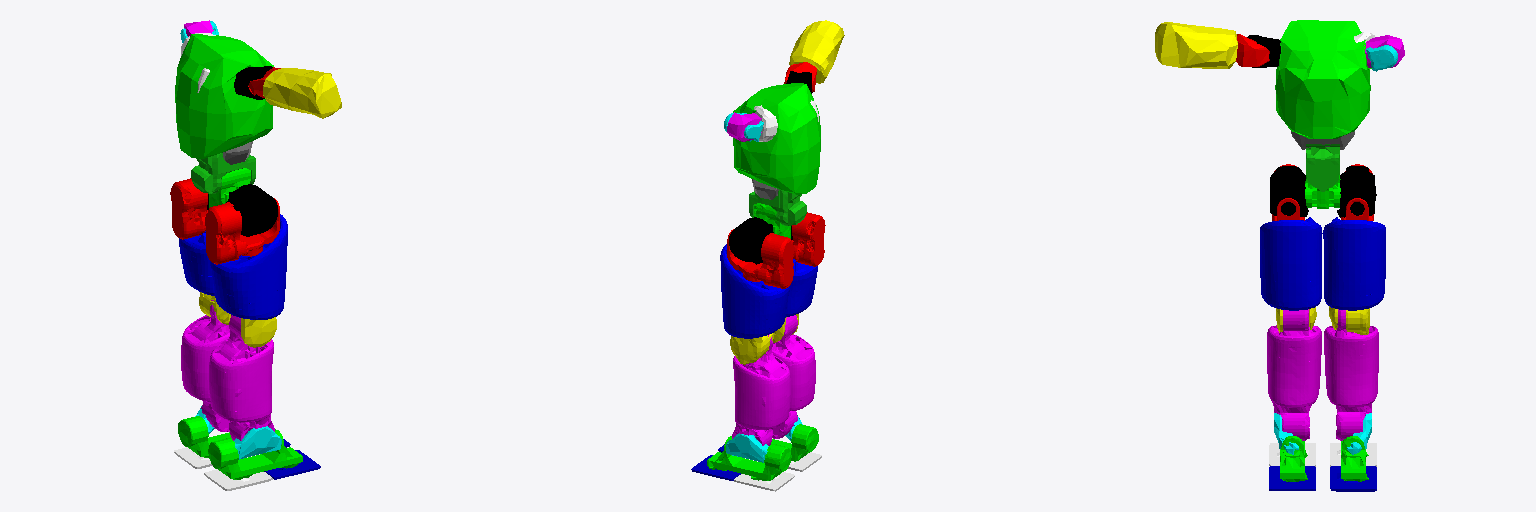
--- Render facts (derived) ---
The picture shows the robot from 3 angles, left to right: view 1: azimuth 30°, elevation 25°; view 2: azimuth 150°, elevation 25°; view 3: azimuth 270°, elevation 25°; orthographic projection.
Robot: iCub — 37 links, 36 joints (22 revolute, 2 continuous, 12 fixed); root link root_link; default pose: joints at zero except 2 at the middle of their limits (r_shoulder_roll = 1.5, l_shoulder_roll = 1.5).
Visible links, largest first — view 1: chest, r_lower_leg, r_hip_3, l_lower_leg, r_upper_arm, r_hip_2, r_ankle_2, l_hip_2, r_hip_1, l_hip_3, torso_1, l_ankle_2 (+6 smaller); view 2: chest, l_lower_leg, l_hip_3, r_lower_leg, l_hip_2, r_upper_arm, l_ankle_2, r_hip_2, l_hip_1, r_hip_3, torso_1, r_ankle_2 (+6 smaller); view 3: chest, r_lower_leg, l_hip_3, r_hip_3, l_lower_leg, r_upper_arm, r_hip_1, l_hip_1, torso_1, r_ankle_2, l_ankle_2, l_foot_front (+5 smaller).
Link boxes in pixels (x1=…): chest: x1=175, y1=34, x2=273, y2=158; r_lower_leg: x1=209, y1=315, x2=274, y2=440; r_hip_3: x1=210, y1=214, x2=287, y2=319; l_lower_leg: x1=181, y1=300, x2=229, y2=431; r_upper_arm: x1=263, y1=68, x2=341, y2=118; r_hip_2: x1=205, y1=198, x2=279, y2=264; r_ankle_2: x1=208, y1=429, x2=302, y2=479; l_hip_2: x1=170, y1=178, x2=207, y2=239; r_hip_1: x1=226, y1=184, x2=277, y2=236; l_hip_3: x1=179, y1=231, x2=214, y2=295; torso_1: x1=191, y1=153, x2=255, y2=193; l_ankle_2: x1=178, y1=416, x2=231, y2=457; chest: x1=733, y1=83, x2=820, y2=194; l_lower_leg: x1=732, y1=334, x2=790, y2=445; l_hip_3: x1=720, y1=244, x2=789, y2=338; r_lower_leg: x1=772, y1=315, x2=815, y2=438; l_hip_2: x1=727, y1=229, x2=794, y2=288; r_upper_arm: x1=789, y1=20, x2=844, y2=83; l_ankle_2: x1=707, y1=436, x2=791, y2=480; r_hip_2: x1=792, y1=212, x2=825, y2=266; l_hip_1: x1=729, y1=217, x2=773, y2=264; r_hip_3: x1=785, y1=259, x2=817, y2=317; torso_1: x1=749, y1=189, x2=806, y2=225; r_ankle_2: x1=771, y1=424, x2=818, y2=461; chest: x1=1275, y1=20, x2=1370, y2=138; r_lower_leg: x1=1267, y1=309, x2=1321, y2=440; l_hip_3: x1=1323, y1=217, x2=1385, y2=310; r_hip_3: x1=1260, y1=217, x2=1322, y2=310; l_lower_leg: x1=1324, y1=309, x2=1378, y2=440; r_upper_arm: x1=1155, y1=22, x2=1237, y2=68; r_hip_1: x1=1270, y1=166, x2=1308, y2=216; l_hip_1: x1=1337, y1=166, x2=1376, y2=217; torso_1: x1=1306, y1=144, x2=1339, y2=191; r_ankle_2: x1=1280, y1=436, x2=1307, y2=481; l_ankle_2: x1=1341, y1=436, x2=1368, y2=481; l_foot_front: x1=1330, y1=466, x2=1376, y2=491.
Bounding box of the posed robot: 0.2783 × 0.5356 × 1.05 m (x, y, z).
Meshes: 34 distinct files referenced, 30 mesh visuals loaded (13 binary STL, 17 ASCII STL); not drawn: 4 (reference not matched to a file when rendering).

The robot description file, URDF, robot "iCub":
<robot name="iCub">
  <link name="root_link">
    <inertial>
      <origin xyz="0.00317113 -0.00014949699999999998 0.025427000000000033" rpy="0 0 -1.5707963267948966"/>
      <mass value="2.67135"/>
      <inertia ixx="0.00428489" ixy="-2.2116e-06" ixz="-1.21946e-05" iyy="0.0045869" iyz="0.00016074" izz="0.00249045"/>
    </inertial>
    <visual>
      <origin xyz="0 0 0.313858" rpy="0 0 -1.5707963267948966"/>
      <geometry>
        <mesh filename="package://iCub/meshes/simmechanics/sim_icub3_root_link_prt.stl" scale="0.001 0.001 0.001"/>
      </geometry>
      <material name="green">
        <color rgba="0 1 0 1"/>
      </material>
    </visual>
    <collision>
      <origin xyz="0 0 0.313858" rpy="0 0 -1.5707963267948966"/>
      <geometry>
        <mesh filename="package://iCub/meshes/simmechanics/sim_icub3_root_link_prt.stl" scale="0.001 0.001 0.001"/>
      </geometry>
    </collision>
  </link>
  <link name="r_hip_1">
    <inertial>
      <origin xyz="-0.005357899999999999 -0.03359610000000001 -0.001346999999999987" rpy="0 0 -1.5707963267948966"/>
      <mass value="2.48546"/>
      <inertia ixx="0.00285629" ixy="3.9100879313042506e-05" ixz="-4.3233113444168614e-05" iyy="0.00230094" iyz="2.8105985012852513e-05" izz="0.00246343"/>
    </inertial>
    <visual>
      <origin xyz="-0.021600000000000008 0.04054999999999993 0.313858" rpy="0 0 -1.5707963267948966"/>
      <geometry>
        <mesh filename="package://iCub/meshes/simmechanics/sim_icub3_r_hip_1_prt.stl" scale="0.001 0.001 0.001"/>
      </geometry>
      <material name="black">
        <color rgba="0 0 0 1"/>
      </material>
    </visual>
    <collision>
      <origin xyz="-0.021600000000000008 0.04054999999999993 0.313858" rpy="0 0 -1.5707963267948966"/>
      <geometry>
        <mesh filename="package://iCub/meshes/simmechanics/sim_icub3_r_hip_1_prt.stl" scale="0.001 0.001 0.001"/>
      </geometry>
    </collision>
  </link>
  <joint name="r_hip_pitch" type="revolute">
    <origin xyz="0.0216 -0.040549999999999996 0" rpy="0 0 0"/>
    <axis xyz="0.0 -1.0 0.0"/>
    <parent link="root_link"/>
    <child link="r_hip_1"/>
    <limit effort="50000" lower="-0.7853981633974483" upper="2.007128639793479" velocity="120.0"/>
    <dynamics damping="0.06" friction="0.0"/>
  </joint>
  <link name="r_hip_2">
    <inertial>
      <origin xyz="-0.0073287000000000005 -0.00018599999999999173 -0.03922199999999998" rpy="0 0 -1.5707963267948966"/>
      <mass value="1.8834"/>
      <inertia ixx="0.00530457" ixy="1.75800935173949e-05" ixz="-1.944508561413543e-05" iyy="0.00316497" iyz="0.0007902041935583603" izz="0.00322503"/>
    </inertial>
    <visual>
      <origin xyz="0.025699999999999983 0.07364999999996628 0.32285800000000775" rpy="0 0 -1.5707963267948966"/>
      <geometry>
        <mesh filename="package://iCub/meshes/simmechanics/sim_icub3_r_hip_2_prt.stl" scale="0.001 0.001 0.001"/>
      </geometry>
      <material name="red">
        <color rgba="1 0 0 1"/>
      </material>
    </visual>
    <collision>
      <origin xyz="0.025699999999999983 0.07364999999996628 0.32285800000000775" rpy="0 0 -1.5707963267948966"/>
      <geometry>
        <mesh filename="package://iCub/meshes/simmechanics/sim_icub3_r_hip_2_prt.stl" scale="0.001 0.001 0.001"/>
      </geometry>
    </collision>
  </link>
  <joint name="r_hip_roll" type="revolute">
    <origin xyz="-0.0473 -0.03310000000000001 -0.009000000000000008" rpy="0 0 0"/>
    <axis xyz="1.0 0.0 0.0"/>
    <parent link="r_hip_1"/>
    <child link="r_hip_2"/>
    <limit effort="50000" lower="-0.17453292519943295" upper="2.007128639793479" velocity="120.0"/>
    <dynamics damping="0.06" friction="0.0"/>
  </joint>
  <link name="r_hip_3">
    <inertial>
      <origin xyz="0.0050640000000000025 0.008557000000000009 -0.040248000000000006" rpy="0 0 -1.5707963267948966"/>
      <mass value="2.29352"/>
      <inertia ixx="0.00410859" ixy="0.0001577216506008059" ixz="0.00045518763382906374" iyy="0.00385326" iyz="-0.00018506299340505087" izz="0.00385557"/>
    </inertial>
    <visual>
      <origin xyz="-0.011000000000000017 0.07364999999996628 0.41255800000000764" rpy="0 0 -1.5707963267948966"/>
      <geometry>
        <mesh filename="package://iCub/meshes/simmechanics/sim_icub3_r_hip_3_prt.stl" scale="0.001 0.001 0.001"/>
      </geometry>
      <material name="blue">
        <color rgba="0 0 1 1"/>
      </material>
    </visual>
    <collision>
      <origin xyz="-0.011000000000000017 0.07364999999996628 0.41255800000000764" rpy="0 0 -1.5707963267948966"/>
      <geometry>
        <mesh filename="package://iCub/meshes/simmechanics/sim_icub3_r_hip_3_prt.stl" scale="0.001 0.001 0.001"/>
      </geometry>
    </collision>
  </link>
  <joint name="r_leg_ft_sensor" type="fixed">
    <origin xyz="0.036699999999999997 0 -0.08969999999999995" rpy="0 0 0"/>
    <parent link="r_hip_2"/>
    <child link="r_hip_3"/>
    <dynamics damping="0.1"/>
  </joint>
  <link name="r_upper_leg">
    <inertial>
      <origin xyz="0.0108785 -0.0010395000000000057 -0.08361700000000005" rpy="0 0 -1.5707963267948966"/>
      <mass value="2.24396"/>
      <inertia ixx="0.00476284" ixy="-3.208266350807358e-05" ixz="0.00011628418121408622" iyy="0.00479384" iyz="0.00044296437443420755" izz="0.00194527"/>
    </inertial>
    <visual>
      <origin xyz="-0.010999999999999998 0.05864999999996624 0.48345800000000777" rpy="0 0 -1.5707963267948966"/>
      <geometry>
        <mesh filename="package://iCub/meshes/simmechanics/sim_icub3_r_upper_leg_prt.stl" scale="0.001 0.001 0.001"/>
      </geometry>
      <material name="yellow">
        <color rgba="1 1 0 1"/>
      </material>
    </visual>
    <collision>
      <origin xyz="-0.010999999999999998 0.05864999999996624 0.48345800000000777" rpy="0 0 -1.5707963267948966"/>
      <geometry>
        <mesh filename="package://iCub/meshes/simmechanics/sim_icub3_r_upper_leg_prt.stl" scale="0.001 0.001 0.001"/>
      </geometry>
    </collision>
  </link>
  <joint name="r_hip_yaw" type="revolute">
    <origin xyz="0 0.015000000000000006 -0.07090000000000007" rpy="0 0 0"/>
    <axis xyz="0.0 0.0 1.0"/>
    <parent link="r_hip_3"/>
    <child link="r_upper_leg"/>
    <limit effort="50000" lower="-1.3962634015954636" upper="1.3962634015954636" velocity="120.0"/>
    <dynamics damping="0.06" friction="0.0"/>
  </joint>
  <link name="r_lower_leg">
    <inertial>
      <origin xyz="-0.01980179 0.023727799999999993 -0.12894100000000008" rpy="0 0 -1.5707963267948966"/>
      <mass value="4.59072"/>
      <inertia ixx="0.0331663" ixy="0.00021016665674538986" ixz="0.00012300646858621808" iyy="0.0309756" iyz="-0.00015989465053380786" izz="0.00525251"/>
    </inertial>
    <visual>
      <origin xyz="-0.026000000000000058 0.08354999999996623 0.5896580000000077" rpy="0 0 -1.5707963267948966"/>
      <geometry>
        <mesh filename="package://iCub/meshes/simmechanics/sim_icub3_r_lower_leg_prt.stl" scale="0.001 0.001 0.001"/>
      </geometry>
      <material name="pink">
        <color rgba="1 0 1 1"/>
      </material>
    </visual>
    <collision>
      <origin xyz="-0.026000000000000058 0.08354999999996623 0.5896580000000077" rpy="0 0 -1.5707963267948966"/>
      <geometry>
        <mesh filename="package://iCub/meshes/simmechanics/sim_icub3_r_lower_leg_prt.stl" scale="0.001 0.001 0.001"/>
      </geometry>
    </collision>
  </link>
  <joint name="r_knee" type="revolute">
    <origin xyz="0.015000000000000003 -0.0249 -0.10619999999999996" rpy="0 0 0"/>
    <axis xyz="0.0 -1.0 0.0"/>
    <parent link="r_upper_leg"/>
    <child link="r_lower_leg"/>
    <limit effort="50000" lower="-1.2217304763960306" upper="0.08726646259971647" velocity="120.0"/>
    <dynamics damping="0.06" friction="0.0"/>
  </joint>
  <link name="r_ankle_1">
    <inertial>
      <origin xyz="-0.0052558000000000014 0.002301599999999987 -0.018286000000000024" rpy="0 0 -1.5707963267948966"/>
      <mass value="1.80595"/>
      <inertia ixx="0.00329109" ixy="-0.00011193325094648436" ixz="-0.00023180543265495062" iyy="0.00097845" iyz="-0.00010678991458219672" izz="0.00298837"/>
    </inertial>
    <visual>
      <origin xyz="-0.02600000000000011 0.08304999999996568 0.8456470000000077" rpy="0 0 -1.5707963267948966"/>
      <geometry>
        <mesh filename="package://iCub/meshes/simmechanics/sim_icub3_r_ankle_1_prt.stl" scale="0.001 0.001 0.001"/>
      </geometry>
      <material name="cyan">
        <color rgba="0 1 1 1"/>
      </material>
    </visual>
    <collision>
      <origin xyz="-0.02600000000000011 0.08304999999996568 0.8456470000000077" rpy="0 0 -1.5707963267948966"/>
      <geometry>
        <mesh filename="package://iCub/meshes/simmechanics/sim_icub3_r_ankle_1_prt.stl" scale="0.001 0.001 0.001"/>
      </geometry>
    </collision>
  </link>
  <joint name="r_ankle_pitch" type="revolute">
    <origin xyz="0 0.0005000000000000004 -0.255989" rpy="0 0 0"/>
    <axis xyz="0.0 1.0 0.0"/>
    <parent link="r_lower_leg"/>
    <child link="r_ankle_1"/>
    <limit effort="50000" lower="-0.7853981633974483" upper="0.7853981633974483" velocity="120.0"/>
    <dynamics damping="0.06" friction="0.0"/>
  </joint>
  <link name="r_ankle_2">
    <inertial>
      <origin xyz="0.0435896 9.779999999998124e-05 -0.02621299999999993" rpy="0 0 -1.5707963267948966"/>
      <mass value="1.06976"/>
      <inertia ixx="0.00510275" ixy="2.566239505873549e-06" ixz="-4.1923537473188265e-06" iyy="0.000995114" iyz="0.000794242494242394" izz="0.00458166"/>
    </inertial>
    <visual>
      <origin xyz="0.026749999999999875 0.0648499999999391 0.8806470000000108" rpy="0 0 -1.5707963267948966"/>
      <geometry>
        <mesh filename="package://iCub/meshes/simmechanics/sim_icub3_r_ankle_2_prt.stl" scale="0.001 0.001 0.001"/>
      </geometry>
      <material name="green">
        <color rgba="0 1 0 1"/>
      </material>
    </visual>
    <collision>
      <origin xyz="0.026749999999999875 0.0648499999999391 0.8806470000000108" rpy="0 0 -1.5707963267948966"/>
      <geometry>
        <mesh filename="package://iCub/meshes/simmechanics/sim_icub3_r_ankle_2_prt.stl" scale="0.001 0.001 0.001"/>
      </geometry>
    </collision>
  </link>
  <joint name="r_ankle_roll" type="revolute">
    <origin xyz="-0.052750000000000005 0.018200000000000008 -0.03500000000000003" rpy="0 0 0"/>
    <axis xyz="1.0 0.0 0.0"/>
    <parent link="r_ankle_1"/>
    <child link="r_ankle_2"/>
    <limit effort="50000" lower="-0.4363323129985824" upper="0.4363323129985824" velocity="120.0"/>
    <dynamics damping="0.06" friction="0.0"/>
  </joint>
  <link name="r_foot_rear">
    <inertial>
      <origin xyz="-0.00021610000000000032 -9.280000000001787e-05 0.00317400000000001" rpy="0 0 -1.5707963267948966"/>
      <mass value="0.728095"/>
      <inertia ixx="0.000769193" ixy="-1.0104094827945897e-06" ixz="-8.724056225297856e-08" iyy="0.000565835" iyz="7.812644807512598e-08" izz="0.00132907"/>
    </inertial>
    <visual>
      <origin xyz="0.010749999999999881 0.0648499999999391 0.9464470000000105" rpy="0 0 -1.5707963267948966"/>
      <geometry>
        <mesh filename="package://iCub/meshes/simmechanics/sim_icub3_r_foot_rear_prt.stl" scale="0.001 0.001 0.001"/>
      </geometry>
      <material name="white">
        <color rgba="1 1 1 1"/>
      </material>
    </visual>
    <collision>
      <origin xyz="0.010749999999999881 0.0648499999999391 0.9464470000000105" rpy="0 0 -1.5707963267948966"/>
      <geometry>
        <mesh filename="package://iCub/meshes/simmechanics/sim_icub3_r_foot_rear_prt.stl" scale="0.001 0.001 0.001"/>
      </geometry>
    </collision>
  </link>
  <joint name="r_foot_rear_ft_sensor" type="fixed">
    <origin xyz="0.016 0 -0.06579999999999997" rpy="0 0 0"/>
    <parent link="r_ankle_2"/>
    <child link="r_foot_rear"/>
    <dynamics damping="0.1"/>
  </joint>
  <link name="r_sole"/>
  <joint name="r_sole_fixed_joint" type="fixed">
    <origin xyz="0.05963000000000001 0 0" rpy="0 0 0"/>
    <parent link="r_foot_rear"/>
    <child link="r_sole"/>
    <dynamics damping="0.1"/>
  </joint>
  <link name="r_foot_front">
    <inertial>
      <origin xyz="0.0005860000000000032 0 0.0029439999999999467" rpy="0 0 -1.5707963267948966"/>
      <mass value="0.723938"/>
      <inertia ixx="0.000770637" ixy="0.0" ixz="0.0" iyy="0.000568064" iyz="-2.3758437778657626e-08" izz="0.001333"/>
    </inertial>
    <visual>
      <origin xyz="-0.10850000000000011 0.06484999999993908 0.9464470000000105" rpy="0 0 -1.5707963267948966"/>
      <geometry>
        <mesh filename="package://iCub/meshes/simmechanics/sim_icub3_r_foot_front_prt.stl" scale="0.001 0.001 0.001"/>
      </geometry>
      <material name="dblue">
        <color rgba="0 0 0.8 1"/>
      </material>
    </visual>
    <collision>
      <origin xyz="-0.10850000000000011 0.06484999999993908 0.9464470000000105" rpy="0 0 -1.5707963267948966"/>
      <geometry>
        <mesh filename="package://iCub/meshes/simmechanics/sim_icub3_r_foot_front_prt.stl" scale="0.001 0.001 0.001"/>
      </geometry>
    </collision>
  </link>
  <joint name="r_foot_front_ft_sensor" type="fixed">
    <origin xyz="0.13525 0 -0.06579999999999997" rpy="0 0 0"/>
    <parent link="r_ankle_2"/>
    <child link="r_foot_front"/>
    <dynamics damping="0.1"/>
  </joint>
  <link name="torso_1">
    <inertial>
      <origin xyz="-0.00752632 0.000684313 0.05308400000000002" rpy="0 0 -1.5707963267948966"/>
      <mass value="1.81255"/>
      <inertia ixx="0.00354354" ixy="5.48743e-06" ixz="8.16841e-06" iyy="0.00272482" iyz="-0.000326014" izz="0.00215923"/>
    </inertial>
    <visual>
      <origin xyz="0 0 0.25335800000000014" rpy="0 0 -1.5707963267948966"/>
      <geometry>
        <mesh filename="package://iCub/meshes/simmechanics/sim_icub3_torso_1_prt.stl" scale="0.001 0.001 0.001"/>
      </geometry>
      <material name="dgreen">
        <color rgba="0.1 0.8 0.1 1"/>
      </material>
    </visual>
    <collision>
      <origin xyz="0 0 0.25335800000000014" rpy="0 0 -1.5707963267948966"/>
      <geometry>
        <mesh filename="package://iCub/meshes/simmechanics/sim_icub3_torso_1_prt.stl" scale="0.001 0.001 0.001"/>
      </geometry>
    </collision>
  </link>
  <joint name="torso_roll" type="revolute">
    <origin xyz="0 0 0.0605" rpy="0 0 0"/>
    <axis xyz="1.0 0.0 0.0"/>
    <parent link="root_link"/>
    <child link="torso_1"/>
    <limit effort="50000" lower="-0.4014257279586958" upper="0.4014257279586958" velocity="120.0"/>
    <dynamics damping="0.06" friction="0.0"/>
  </joint>
  <link name="torso_2">
    <inertial>
      <origin xyz="0.0006802240000000001 0.0015534 0.05118500000000001" rpy="0 0 -1.5707963267948966"/>
      <mass value="1.45349"/>
      <inertia ixx="0.00226311" ixy="-1.7788e-06" ixz="-0.000118559" iyy="0.00286571" iyz="1.47721e-05" izz="0.00163638"/>
    </inertial>
    <visual>
      <origin xyz="0 0 0.18085800000000013" rpy="0 0 -1.5707963267948966"/>
      <geometry>
        <mesh filename="package://iCub/meshes/simmechanics/sim_icub3_torso_2_prt.stl" scale="0.001 0.001 0.001"/>
      </geometry>
      <material name="gray">
        <color rgba="0.5 0.5 0.5 1"/>
      </material>
    </visual>
    <collision>
      <origin xyz="0 0 0.18085800000000013" rpy="0 0 -1.5707963267948966"/>
      <geometry>
        <mesh filename="package://iCub/meshes/simmechanics/sim_icub3_torso_2_prt.stl" scale="0.001 0.001 0.001"/>
      </geometry>
    </collision>
  </link>
  <joint name="torso_pitch" type="revolute">
    <origin xyz="0 0 0.07250000000000001" rpy="0 0 0"/>
    <axis xyz="0.0 -1.0 0.0"/>
    <parent link="torso_1"/>
    <child link="torso_2"/>
    <limit effort="50000" lower="-0.3141592653589793" upper="0.7853981633974483" velocity="120.0"/>
    <dynamics damping="0.06" friction="0.0"/>
  </joint>
  <link name="chest">
    <inertial>
      <origin xyz="-0.0133964 -0.000262139 0.0551337" rpy="0 0 -1.5707963267948966"/>
      <mass value="5.75757"/>
      <inertia ixx="0.0255632" ixy="-5.31274e-05" ixz="9.38021e-05" iyy="0.0261369" iyz="-0.000610637" izz="0.0222276"/>
    </inertial>
    <visual>
      <origin xyz="0 0 0.1163880000000001" rpy="0 0 -1.5707963267948966"/>
      <geometry>
        <mesh filename="package://iCub/meshes/simmechanics/sim_icub3_chest_prt.stl" scale="0.001 0.001 0.001"/>
      </geometry>
      <material name="green">
        <color rgba="0 1 0 1"/>
      </material>
    </visual>
    <collision>
      <origin xyz="0 0 0.1163880000000001" rpy="0 0 -1.5707963267948966"/>
      <geometry>
        <mesh filename="package://iCub/meshes/simmechanics/sim_icub3_chest_prt.stl" scale="0.001 0.001 0.001"/>
      </geometry>
    </collision>
  </link>
  <joint name="torso_yaw" type="revolute">
    <origin xyz="0 0 0.06447000000000001" rpy="0 0 0"/>
    <axis xyz="0.0 0.0 1.0"/>
    <parent link="torso_2"/>
    <child link="chest"/>
    <limit effort="50000" lower="-0.7504915783575618" upper="0.7504915783575618" velocity="120.0"/>
    <dynamics damping="0.06" friction="0.0"/>
  </joint>
  <link name="r_shoulder_1">
    <inertial>
      <origin xyz="0.00026441971857374055 -0.05747129038042943 0.0004210903629773867" rpy="-0.06688725064450136 0.24445256247619251 -1.840815419889917"/>
      <mass value="1.45988"/>
      <inertia ixx="0.00109699" ixy="-0.000616726" ixz="-0.000574688" iyy="0.00309305" iyz="-0.000161381" izz="0.00309487"/>
    </inertial>
    <visual>
      <origin xyz="0.030411233356184415 0.029140462447480257 0.019095774333938085" rpy="-0.06688725064450136 0.24445256247619251 -1.840815419889917"/>
      <geometry>
        <mesh filename="package://iCub/meshes/simmechanics/sim_icub3_r_shoulder_1_prt.stl" scale="0.001 0.001 0.001"/>
      </geometry>
      <material name="black">
        <color rgba="0 0 0 1"/>
      </material>
    </visual>
    <collision>
      <origin xyz="0.030411233356184415 0.029140462447480257 0.019095774333938085" rpy="-0.06688725064450136 0.24445256247619251 -1.840815419889917"/>
      <geometry>
        <mesh filename="package://iCub/meshes/simmechanics/sim_icub3_r_shoulder_1_prt.stl" scale="0.001 0.001 0.001"/>
      </geometry>
    </collision>
  </link>
  <joint name="r_shoulder_pitch" type="revolute">
    <origin xyz="-0.020835100000000002 -0.0397423 0.1052029" rpy="-0.25326164431680925 2.3014774394592079e-07 0.26179970938509745"/>
    <axis xyz="1.499044390098182e-07 0.9999999783534812 -1.2401537036323317e-07"/>
    <parent link="chest"/>
    <child link="r_shoulder_1"/>
    <limit effort="50000" lower="-1.53588974175501" upper="0.22689280275926285" velocity="120.0"/>
    <dynamics damping="0.06" friction="0.0"/>
  </joint>
  <link name="r_shoulder_2">
    <inertial>
      <origin xyz="0.000711844151437005 -0.00028997131506725005 -0.027865575116629175" rpy="-0.07156446033079357 0.06196992338505823 -1.8462350402422587"/>
      <mass value="0.322126"/>
      <inertia ixx="0.000309774" ixy="3.44034e-05" ixz="2.39129e-05" iyy="0.00021568" iyz="-5.45925e-05" izz="0.000222102"/>
    </inertial>
    <visual>
      <origin xyz="0.02389326106684631 0.14153171676199228 -0.007252350207672734" rpy="-0.07156446033079357 0.06196992338505823 -1.8462350402422587"/>
      <geometry>
        <mesh filename="package://iCub/meshes/simmechanics/sim_icub3_r_shoulder_2_prt.stl" scale="0.001 0.001 0.001"/>
      </geometry>
      <material name="red">
        <color rgba="1 0 0 1"/>
      </material>
    </visual>
    <collision>
      <origin xyz="0.02389326106684631 0.14153171676199228 -0.007252350207672734" rpy="-0.07156446033079357 0.06196992338505823 -1.8462350402422587"/>
      <geometry>
        <mesh filename="package://iCub/meshes/simmechanics/sim_icub3_r_shoulder_2_prt.stl" scale="0.001 0.001 0.001"/>
      </geometry>
    </collision>
  </link>
  <joint name="r_shoulder_roll" type="revolute">
    <origin xyz="0.007489008185044645 -0.11150041046657978 0.0004027858966975245" rpy="0.17453306234069352 -0.05374779257913059 -6.132332688804098e-07"/>
    <axis xyz="-0.9999998262417886 4.210501434612913e-08 2.4630481182686846e-08"/>
    <parent link="r_shoulder_1"/>
    <child link="r_shoulder_2"/>
    <limit effort="50000" lower="0.20943951023931956" upper="2.792526803190927" velocity="120.0"/>
    <dynamics damping="0.06" friction="0.0"/>
  </joint>
  <link name="r_shoulder_3">
    <inertial>
      <origin xyz="-8.928496484206933e-05 -3.376971940446949e-05 -0.007594500252887257" rpy="-0.07156446033079357 0.06196992338505823 -1.8462350402422587"/>
      <mass value="0.258699"/>
      <inertia ixx="7.20362e-05" ixy="5.87638e-07" ixz="-2.8754e-06" iyy="7.22746e-05" iyz="-3.42816e-06" izz="0.000119776"/>
    </inertial>
    <visual>
      <origin xyz="0.030743207452236184 0.1415314977120317 0.047047631370218244" rpy="-0.07156446033079357 0.06196992338505823 -1.8462350402422587"/>
      <geometry>
        <mesh filename="package://iCub/meshes/simmechanics/sim_icub3_r_shoulder_3_prt.stl" scale="0.001 0.001 0.001"/>
      </geometry>
      <material name="blue">
        <color rgba="0 0 1 1"/>
      </material>
    </visual>
    <collision>
      <origin xyz="0.030743207452236184 0.1415314977120317 0.047047631370218244" rpy="-0.07156446033079357 0.06196992338505823 -1.8462350402422587"/>
      <geometry>
        <mesh filename="package://iCub/meshes/simmechanics/sim_icub3_r_shoulder_3_prt.stl" scale="0.001 0.001 0.001"/>
      </geometry>
    </collision>
  </link>
  <joint name="r_shoulder_yaw" type="fixed">
    <origin xyz="-0.006849946385389872 2.1904996058697002e-07 -0.05429998157789099" rpy="0 0 0"/>
    <parent link="r_shoulder_2"/>
    <child link="r_shoulder_3"/>
    <limit effort="50000" lower="-0.8726646259971648" upper="1.3962634015954636" velocity="120.0"/>
    <dynamics damping="0.06" friction="0.0"/>
  </joint>
  <link name="r_upper_arm">
    <inertial>
      <origin xyz="-4.827495476422694e-06 -0.001943485876269635 -0.04747357932833829" rpy="-0.07156446033079357 0.06196992338505823 -1.8462350402422587"/>
      <mass value="2.06334"/>
      <inertia ixx="0.00382639" ixy="-5.03894e-06" ixz="0.000205684" iyy="0.00368146" iyz="0.000261155" izz="0.00167002"/>
    </inertial>
    <visual>
      <origin xyz="0.030743125543818663 0.141531075879301 0.0695475727433718" rpy="-0.07156446033079357 0.06196992338505823 -1.8462350402422587"/>
      <geometry>
        <mesh filename="package://iCub/meshes/simmechanics/sim_icub3_r_upperarm_prt.stl" scale="0.001 0.001 0.001"/>
      </geometry>
      <material name="yellow">
        <color rgba="1 1 0 1"/>
      </material>
    </visual>
    <collision>
      <origin xyz="0.030743125543818663 0.141531075879301 0.0695475727433718" rpy="-0.07156446033079357 0.06196992338505823 -1.8462350402422587"/>
      <geometry>
        <mesh filename="package://iCub/meshes/simmechanics/sim_icub3_r_upperarm_prt.stl" scale="0.001 0.001 0.001"/>
      </geometry>
    </collision>
  </link>
  <joint name="r_arm_ft_sensor" type="continuous">
    <origin xyz="0 4.2183273077367467e-07 -0.02249994137315358" rpy="0 0 0"/>
    <axis xyz="-3.787621790776764e-08 2.805197706023475e-08 1.0000002566182309"/>
    <parent link="r_shoulder_3"/>
    <child link="r_upper_arm"/>
    <dynamics damping="0.1"/>
  </joint>
  <link name="l_shoulder_1">
    <inertial>
      <origin xyz="0.00029182766222172335 0.057230906807805036 0.0005026028256971786" rpy="-0.06688747999488329 -0.24445247956182184 -1.3007776604108252"/>
      <mass value="1.45562"/>
      <inertia ixx="0.00109517" ixy="0.000611891" ixz="0.000565594" iyy="0.00306956" iyz="-0.000159546" izz="0.00307951"/>
    </inertial>
    <visual>
      <origin xyz="0.030411223821871745 -0.029140477504781638 0.01909576654023967" rpy="-0.06688747999488329 -0.24445247956182184 -1.3007776604108252"/>
      <geometry>
        <mesh filename="package://iCub/meshes/simmechanics/sim_icub3_l_shoulder_1_prt.stl" scale="0.001 0.001 0.001"/>
      </geometry>
      <material name="pink">
        <color rgba="1 0 1 1"/>
      </material>
    </visual>
    <collision>
      <origin xyz="0.030411223821871745 -0.029140477504781638 0.01909576654023967" rpy="-0.06688747999488329 -0.24445247956182184 -1.3007776604108252"/>
      <geometry>
        <mesh filename="package://iCub/meshes/simmechanics/sim_icub3_l_shoulder_1_prt.stl" scale="0.001 0.001 0.001"/>
      </geometry>
    </collision>
  </link>
  <joint name="l_shoulder_pitch" type="revolute">
    <origin xyz="-0.020835100000000002 0.0397423 0.1052029" rpy="0.2532616237670649 -1.1982921379466467e-07 -0.26179930185680106"/>
    <axis xyz="-3.3231509266596455e-07 -0.9999999783534343 -1.4456511512603564e-07"/>
    <parent link="chest"/>
    <child link="l_shoulder_1"/>
    <limit effort="50000" lower="-1.53588974175501" upper="0.22689280275926285" velocity="120.0"/>
    <dynamics damping="0.06" friction="0.0"/>
  </joint>
  <link name="l_shoulder_2">
    <inertial>
      <origin xyz="0.003293362025486902 0.0002563804707528261 -0.027865685757097337" rpy="-0.0715644949880594 -0.06196998841864678 -1.295357449823658"/>
      <mass value="0.322126"/>
      <inertia ixx="0.000311039" ixy="-3.5032e-05" ixz="-2.4436e-05" iyy="0.000216027" iyz="-5.52877e-05" izz="0.00022365"/>
    </inertial>
    <visual>
      <origin xyz="0.02639309786919335 -0.14153112610649204 -0.007252397644602098" rpy="-0.0715644949880594 -0.06196998841864678 -1.295357449823658"/>
      <geometry>
        <mesh filename="package://iCub/meshes/simmechanics/sim_icub3_l_shoulder_2_prt.stl" scale="0.001 0.001 0.001"/>
      </geometry>
      <material name="cyan">
        <color rgba="0 1 1 1"/>
      </material>
    </visual>
    <collision>
      <origin xyz="0.02639309786919335 -0.14153112610649204 -0.007252397644602098" rpy="-0.0715644949880594 -0.06196998841864678 -1.295357449823658"/>
      <geometry>
        <mesh filename="package://iCub/meshes/simmechanics/sim_icub3_l_shoulder_2_prt.stl" scale="0.001 0.001 0.001"/>
      </geometry>
    </collision>
  </link>
  <joint name="l_shoulder_roll" type="revolute">
    <origin xyz="0.004992849332498911 0.11149983845605199 0.00026865023223796025" rpy="-0.17453296136691587 -0.05374759926346641 0"/>
    <axis xyz="-0.9999998262417685 -2.0348252625938444e-07 4.023022846062156e-08"/>
    <parent link="l_shoulder_1"/>
    <child link="l_shoulder_2"/>
    <limit effort="50000" lower="0.20943951023931956" upper="2.792526803190927" velocity="120.0"/>
    <dynamics damping="0.06" friction="0.0"/>
  </joint>
  <link name="l_shoulder_3">
    <inertial>
      <origin xyz="-4.416264022005789e-06 9.587749727052453e-05 -0.007326213473011087" rpy="-0.0715644949880594 -0.06196998841864678 -1.295357449823658"/>
      <mass value="0.256128"/>
      <inertia ixx="7.10321e-05" ixy="-3.76336e-07" ixz="2.93189e-06" iyy="7.06105e-05" iyz="-3.52325e-06" izz="0.000119948"/>
    </inertial>
    <visual>
      <origin xyz="0.03074323102617168 -0.1415314893638154 0.04704764107945962" rpy="-0.0715644949880594 -0.06196998841864678 -1.295357449823658"/>
      <geometry>
        <mesh filename="package://iCub/meshes/simmechanics/sim_icub3_l_shoulder_3_prt.stl" scale="0.001 0.001 0.001"/>
      </geometry>
      <material name="green">
        <color rgba="0 1 0 1"/>
      </material>
    </visual>
    <collision>
      <origin xyz="0.03074323102617168 -0.1415314893638154 0.04704764107945962" rpy="-0.0715644949880594 -0.06196998841864678 -1.295357449823658"/>
      <geometry>
        <mesh filename="package://iCub/meshes/simmechanics/sim_icub3_l_shoulder_3_prt.stl" scale="0.001 0.001 0.001"/>
      </geometry>
    </collision>
  </link>
  <joint name="l_shoulder_yaw" type="fixed">
    <origin xyz="-0.004350133156978318 3.632573233602887e-07 -0.05430003872406172" rpy="0 0 0"/>
    <parent link="l_shoulder_2"/>
    <child link="l_shoulder_3"/>
    <limit effort="50000" lower="-0.8726646259971648" upper="1.3962634015954636" velocity="120.0"/>
    <dynamics damping="0.06" friction="0.0"/>
  </joint>
  <link name="l_upper_arm">
    <inertial>
      <origin xyz="0.006736834478024374 -0.021799255751033003 -0.04590612014684704" rpy="-0.0715644949880594 -0.06196998841864678 -1.295357449823658"/>
      <mass value="2.07167"/>
      <inertia ixx="0.0038606" ixy="0.000215061" ixz="-5.23479e-05" iyy="0.018139" iyz="0.000254564" izz="0.0161052"/>
    </inertial>
    <visual>
      <origin xyz="0.030743149468679273 -0.14153106591133116 0.06954758245258388" rpy="-0.0715644949880594 -0.06196998841864678 -1.295357449823658"/>
      <geometry>
        <mesh filename="package://iCub/meshes/simmechanics/sim_icub3_l_upperarm_prt.stl" scale="0.001 0.001 0.001"/>
      </geometry>
      <material name="white">
        <color rgba="1 1 1 1"/>
      </material>
    </visual>
    <collision>
      <origin xyz="0.030743149468679273 -0.14153106591133116 0.06954758245258388" rpy="-0.0715644949880594 -0.06196998841864678 -1.295357449823658"/>
      <geometry>
        <mesh filename="package://iCub/meshes/simmechanics/sim_icub3_l_upperarm_prt.stl" scale="0.001 0.001 0.001"/>
      </geometry>
    </collision>
  </link>
  <joint name="l_arm_ft_sensor" type="continuous">
    <origin xyz="0 -4.2345248449371375e-07 -0.022499941373124423" rpy="0 0 0"/>
    <axis xyz="-2.2276474049102235e-08 4.393786247302041e-08 1.0000002566182309"/>
    <parent link="l_shoulder_3"/>
    <child link="l_upper_arm"/>
    <dynamics damping="0.1"/>
  </joint>
  <link name="neck_1">
    <inertial>
      <origin xyz="-0.0021184600000000004 0.00032935500000000003 0.031452400000000005" rpy="0 0 -1.5707963267948966"/>
      <mass value="0.380522"/>
      <inertia ixx="0.000185851" ixy="-1.53015e-05" ixz="9.1042e-06" iyy="0.000293366" iyz="-5.73862e-06" izz="0.000276493"/>
    </inertial>
    <visual>
      <origin xyz="0.003788489999999879 0 -0.0489114999999999" rpy="0 0 -1.5707963267948966"/>
      <geometry>
        <mesh filename="package://iCub/meshes/simmechanics/sim_icub3_neck_1_prt.stl" scale="0.001 0.001 0.001"/>
      </geometry>
      <material name="dblue">
        <color rgba="0 0 0.8 1"/>
      </material>
    </visual>
    <collision>
      <origin xyz="0.003788489999999879 0 -0.0489114999999999" rpy="0 0 -1.5707963267948966"/>
      <geometry>
        <mesh filename="package://iCub/meshes/simmechanics/sim_icub3_neck_1_prt.stl" scale="0.001 0.001 0.001"/>
      </geometry>
    </collision>
  </link>
  <joint name="neck_fixed_joint" type="fixed">
    <origin xyz="-0.00378849 0 0.1652995" rpy="0 0 0"/>
    <parent link="chest"/>
    <child link="neck_1"/>
    <dynamics damping="0.1"/>
  </joint>
  <link name="neck_2">
    <inertial>
      <origin xyz="-0.00639127 6.987970000000001e-05 0.00656749999999999" rpy="0 0 -1.5707963267948966"/>
      <mass value="0.125914"/>
      <inertia ixx="4.06745e-05" ixy="3.70682e-08" ixz="-8.04162e-08" iyy="4.7566e-05" iyz="9.39617e-06" izz="3.88116e-05"/>
    </inertial>
    <visual>
      <origin xyz="-0.004861510000000123 0 -0.09791149999999992" rpy="0 0 -1.5707963267948966"/>
      <geometry>
        <mesh filename="package://iCub/meshes/simmechanics/sim_icub3_neck_2_prt.stl" scale="0.001 0.001 0.001"/>
      </geometry>
      <material name="dgreen">
        <color rgba="0.1 0.8 0.1 1"/>
      </material>
    </visual>
    <collision>
      <origin xyz="-0.004861510000000123 0 -0.09791149999999992" rpy="0 0 -1.5707963267948966"/>
      <geometry>
        <mesh filename="package://iCub/meshes/simmechanics/sim_icub3_neck_2_prt.stl" scale="0.001 0.001 0.001"/>
      </geometry>
    </collision>
  </link>
  <joint name="neck_pitch" type="revolute">
    <origin xyz="0.00865 0 0.049000000000000016" rpy="0 0 0"/>
    <axis xyz="0.0 -1.0 0.0"/>
    <parent link="neck_1"/>
    <child link="neck_2"/>
    <limit effort="50000" lower="-0.5235987755982988" upper="0.3839724354387525" velocity="120.0"/>
    <dynamics damping="0.06" friction="0.0"/>
  </joint>
  <link name="neck_3">
    <inertial>
      <origin xyz="0.0015052899999999994 -9.83989e-05 0.031176999999999983" rpy="0 0 -1.5707963267948966"/>
      <mass value="0.15881"/>
      <inertia ixx="9.33153e-05" ixy="-4.69121e-07" ixz="4.64815e-07" iyy="8.04014e-05" iyz="9.18022e-06" izz="3.37704e-05"/>
    </inertial>
    <visual>
      <origin xyz="-0.004861510000000076 0 -0.10741199999999994" rpy="0 0 -1.5707963267948966"/>
      <geometry>
        <mesh filename="package://iCub/meshes/simmechanics/sim_icub3_neck_3_prt.stl" scale="0.001 0.001 0.001"/>
      </geometry>
      <material name="gray">
        <color rgba="0.5 0.5 0.5 1"/>
      </material>
    </visual>
    <collision>
      <origin xyz="-0.004861510000000076 0 -0.10741199999999994" rpy="0 0 -1.5707963267948966"/>
      <geometry>
        <mesh filename="package://iCub/meshes/simmechanics/sim_icub3_neck_3_prt.stl" scale="0.001 0.001 0.001"/>
      </geometry>
    </collision>
  </link>
  <joint name="neck_roll" type="revolute">
    <origin xyz="0 0 0.009500499999999995" rpy="0 0 0"/>
    <axis xyz="1.0 0.0 0.0"/>
    <parent link="neck_2"/>
    <child link="neck_3"/>
    <limit effort="50000" lower="-0.3490658503988659" upper="0.3490658503988659" velocity="120.0"/>
    <dynamics damping="0.06" friction="0.0"/>
  </joint>
  <link name="head">
    <inertial>
      <origin xyz="-0.002904259999999059 6.045070004523155e-05 0.10380000000000003" rpy="0 0 -1.5707963267948966"/>
      <mass value="1.955"/>
      <inertia ixx="0.0075908054" ixy="1.2937334106820473e-07" ixz="-2.7029224936168744e-07" iyy="0.0056755473" iyz="-5.263770650744555e-06" izz="0.007126685"/>
    </inertial>
    <visual>
      <origin xyz="-0.004861510000000084 0 -0.17656200000000014" rpy="0 0 -1.5707963267948966"/>
      <geometry>
        <mesh filename="package://iCub/meshes/simmechanics/sim_icub3_head_prt.stl" scale="0.001 0.001 0.001"/>
      </geometry>
      <material name="green">
        <color rgba="0 1 0 1"/>
      </material>
    </visual>
    <collision>
      <origin xyz="-0.004861510000000084 0 -0.17656200000000014" rpy="0 0 -1.5707963267948966"/>
      <geometry>
        <mesh filename="package://iCub/meshes/simmechanics/sim_icub3_head_prt.stl" scale="0.001 0.001 0.001"/>
      </geometry>
    </collision>
  </link>
  <joint name="neck_yaw" type="revolute">
    <origin xyz="0 0 0.06915000000000002" rpy="0 0 0"/>
    <axis xyz="0.0 0.0 -1.0"/>
    <parent link="neck_3"/>
    <child link="head"/>
    <limit effort="50000" lower="-0.7853981633974483" upper="0.7853981633974483" velocity="120.0"/>
    <dynamics damping="0.06" friction="0.0"/>
  </joint>
  <link name="l_hip_1">
    <inertial>
      <origin xyz="-0.001970200000000002 0.0311194 -0.00043199999999998795" rpy="0 0 -1.5707963267948966"/>
      <mass value="2.48546"/>
      <inertia ixx="0.00285629" ixy="-2.13955e-05" ixz="3.35338e-06" iyy="0.00230094" iyz="1.79278e-05" izz="0.00246343"/>
    </inertial>
    <visual>
      <origin xyz="-0.02160000000000005 -0.040449999999999674 0.3138580000000002" rpy="0 0 -1.5707963267948966"/>
      <geometry>
        <mesh filename="package://iCub/meshes/simmechanics/sim_icub3_l_hip_1_prt.stl" scale="0.001 0.001 0.001"/>
      </geometry>
      <material name="black">
        <color rgba="0 0 0 1"/>
      </material>
    </visual>
    <collision>
      <origin xyz="-0.02160000000000005 -0.040449999999999674 0.3138580000000002" rpy="0 0 -1.5707963267948966"/>
      <geometry>
        <mesh filename="package://iCub/meshes/simmechanics/sim_icub3_l_hip_1_prt.stl" scale="0.001 0.001 0.001"/>
      </geometry>
    </collision>
  </link>
  <joint name="l_hip_pitch" type="revolute">
    <origin xyz="0.0216 0.04045000000000001 0" rpy="0 0 0"/>
    <axis xyz="0.0 -1.0 0.0"/>
    <parent link="root_link"/>
    <child link="l_hip_1"/>
    <limit effort="50000" lower="-0.7853981633974483" upper="2.007128639793479" velocity="120.0"/>
    <dynamics damping="0.06" friction="0.0"/>
  </joint>
  <link name="l_hip_2">
    <inertial>
      <origin xyz="-0.005948600000000005 8.049999999999724e-05 -0.03665299999999999" rpy="0 0 -1.5707963267948966"/>
      <mass value="1.8834"/>
      <inertia ixx="0.00530457" ixy="-3.8077e-06" ixz="2.9244e-06" iyy="0.00316497" iyz="0.0011122" izz="0.00322503"/>
    </inertial>
    <visual>
      <origin xyz="0.025649999999999923 -0.07354999999999975 0.32285800000000037" rpy="0 0 -1.5707963267948966"/>
      <geometry>
        <mesh filename="package://iCub/meshes/simmechanics/sim_icub3_l_hip_2_prt.stl" scale="0.001 0.001 0.001"/>
      </geometry>
      <material name="red">
        <color rgba="1 0 0 1"/>
      </material>
    </visual>
    <collision>
      <origin xyz="0.025649999999999923 -0.07354999999999975 0.32285800000000037" rpy="0 0 -1.5707963267948966"/>
      <geometry>
        <mesh filename="package://iCub/meshes/simmechanics/sim_icub3_l_hip_2_prt.stl" scale="0.001 0.001 0.001"/>
      </geometry>
    </collision>
  </link>
  <joint name="l_hip_roll" type="revolute">
    <origin xyz="-0.04725 0.0331 -0.009000000000000008" rpy="0 0 0"/>
    <axis xyz="1.0 0.0 0.0"/>
    <parent link="l_hip_1"/>
    <child link="l_hip_2"/>
    <limit effort="50000" lower="-0.17453292519943295" upper="2.007128639793479" velocity="120.0"/>
    <dynamics damping="0.06" friction="0.0"/>
  </joint>
  <link name="l_hip_3">
    <inertial>
      <origin xyz="0.002293400000000001 -0.012390400000000003 -0.038493" rpy="0 0 -1.5707963267948966"/>
      <mass value="2.29352"/>
      <inertia ixx="0.00410859" ixy="5.18011e-06" ixz="-0.000137838" iyy="0.00385326" iyz="6.77925e-06" izz="0.00385557"/>
    </inertial>
    <visual>
      <origin xyz="-0.011050000000000075 -0.07354999999999974 0.4125580000000003" rpy="0 0 -1.5707963267948966"/>
      <geometry>
        <mesh filename="package://iCub/meshes/simmechanics/sim_icub3_l_hip_3_prt.stl" scale="0.001 0.001 0.001"/>
      </geometry>
      <material name="blue">
        <color rgba="0 0 1 1"/>
      </material>
    </visual>
    <collision>
      <origin xyz="-0.011050000000000075 -0.07354999999999974 0.4125580000000003" rpy="0 0 -1.5707963267948966"/>
      <geometry>
        <mesh filename="package://iCub/meshes/simmechanics/sim_icub3_l_hip_3_prt.stl" scale="0.001 0.001 0.001"/>
      </geometry>
    </collision>
  </link>
  <joint name="l_leg_ft_sensor" type="fixed">
    <origin xyz="0.036699999999999997 0 -0.08969999999999995" rpy="0 0 0"/>
    <parent link="l_hip_2"/>
    <child link="l_hip_3"/>
    <dynamics damping="0.1"/>
  </joint>
  <link name="l_upper_leg">
    <inertial>
      <origin xyz="0.0111663 0.006184700000000008 -0.08457400000000004" rpy="0 0 -1.5707963267948966"/>
      <mass value="2.24396"/>
      <inertia ixx="0.00476284" ixy="6.71293e-05" ixz="-0.00033784" iyy="0.00479384" iyz="0.000493564" izz="0.00194527"/>
    </inertial>
    <visual>
      <origin xyz="-0.011050000000000084 -0.05854999999999981 0.48345800000000044" rpy="0 0 -1.5707963267948966"/>
      <geometry>
        <mesh filename="package://iCub/meshes/simmechanics/sim_icub3_l_upper_leg_prt.stl" scale="0.001 0.001 0.001"/>
      </geometry>
      <material name="yellow">
        <color rgba="1 1 0 1"/>
      </material>
    </visual>
    <collision>
      <origin xyz="-0.011050000000000084 -0.05854999999999981 0.48345800000000044" rpy="0 0 -1.5707963267948966"/>
      <geometry>
        <mesh filename="package://iCub/meshes/simmechanics/sim_icub3_l_upper_leg_prt.stl" scale="0.001 0.001 0.001"/>
      </geometry>
    </collision>
  </link>
  <joint name="l_hip_yaw" type="revolute">
    <origin xyz="0 -0.015000000000000006 -0.07090000000000007" rpy="0 0 0"/>
    <axis xyz="0.0 0.0 1.0"/>
    <parent link="l_hip_3"/>
    <child link="l_upper_leg"/>
    <limit effort="50000" lower="-1.3962634015954636" upper="1.3962634015954636" velocity="120.0"/>
    <dynamics damping="0.06" friction="0.0"/>
  </joint>
  <link name="l_lower_leg">
    <inertial>
      <origin xyz="-0.01815996 -0.023756500000000007 -0.16374900000000003" rpy="0 0 -1.5707963267948966"/>
      <mass value="4.59072"/>
      <inertia ixx="0.0331663" ixy="-6.6797e-05" ixz="-0.0011637" iyy="0.0309756" iyz="0.00291057" izz="0.00525251"/>
    </inertial>
    <visual>
      <origin xyz="-0.026050000000000045 -0.08344999999999989 0.5896580000000005" rpy="0 0 -1.5707963267948966"/>
      <geometry>
        <mesh filename="package://iCub/meshes/simmechanics/sim_icub3_l_lower_leg_prt.stl" scale="0.001 0.001 0.001"/>
      </geometry>
      <material name="pink">
        <color rgba="1 0 1 1"/>
      </material>
    </visual>
    <collision>
      <origin xyz="-0.026050000000000045 -0.08344999999999989 0.5896580000000005" rpy="0 0 -1.5707963267948966"/>
      <geometry>
        <mesh filename="package://iCub/meshes/simmechanics/sim_icub3_l_lower_leg_prt.stl" scale="0.001 0.001 0.001"/>
      </geometry>
    </collision>
  </link>
  <joint name="l_knee" type="revolute">
    <origin xyz="0.015 0.024900000000000012 -0.10619999999999996" rpy="0 0 0"/>
    <axis xyz="0.0 -1.0 0.0"/>
    <parent link="l_upper_leg"/>
    <child link="l_lower_leg"/>
    <limit effort="50000" lower="-1.2217304763960306" upper="0.08726646259971647" velocity="120.0"/>
    <dynamics damping="0.06" friction="0.0"/>
  </joint>
  <link name="l_ankle_1">
    <inertial>
      <origin xyz="-0.0049152000000000015 -0.0022939000000000154 -0.018371000000000026" rpy="0 0 -1.5707963267948966"/>
      <mass value="1.80595"/>
      <inertia ixx="0.00329109" ixy="0.000115135" ixz="0.000232789" iyy="0.00097845" iyz="-0.000112215" izz="0.00298837"/>
    </inertial>
    <visual>
      <origin xyz="-0.026049999999999997 -0.08294999999999998 0.8456470000000004" rpy="0 0 -1.5707963267948966"/>
      <geometry>
        <mesh filename="package://iCub/meshes/simmechanics/sim_icub3_l_ankle_1_prt.stl" scale="0.001 0.001 0.001"/>
      </geometry>
      <material name="cyan">
        <color rgba="0 1 1 1"/>
      </material>
    </visual>
    <collision>
      <origin xyz="-0.026049999999999997 -0.08294999999999998 0.8456470000000004" rpy="0 0 -1.5707963267948966"/>
      <geometry>
        <mesh filename="package://iCub/meshes/simmechanics/sim_icub3_l_ankle_1_prt.stl" scale="0.001 0.001 0.001"/>
      </geometry>
    </collision>
  </link>
  <joint name="l_ankle_pitch" type="revolute">
    <origin xyz="0 -0.0005000000000000004 -0.255989" rpy="0 0 0"/>
    <axis xyz="0.0 -1.0 0.0"/>
    <parent link="l_lower_leg"/>
    <child link="l_ankle_1"/>
    <limit effort="50000" lower="-0.7853981633974483" upper="0.7853981633974483" velocity="120.0"/>
    <dynamics damping="0.06" friction="0.0"/>
  </joint>
  <link name="l_ankle_2">
    <inertial>
      <origin xyz="0.0395516 -8.099999999999774e-05 -0.025341999999999976" rpy="0 0 -1.5707963267948966"/>
      <mass value="1.06976"/>
      <inertia ixx="0.00510275" ixy="4.67014e-06" ixz="-6.74116e-07" iyy="0.000995114" iyz="0.000903931" izz="0.00458166"/>
    </inertial>
    <visual>
      <origin xyz="0.026700000000000015 -0.06475000000001183 0.8806469999999995" rpy="0 0 -1.5707963267948966"/>
      <geometry>
        <mesh filename="package://iCub/meshes/simmechanics/sim_icub3_l_ankle_2_prt.stl" scale="0.001 0.001 0.001"/>
      </geometry>
      <material name="green">
        <color rgba="0 1 0 1"/>
      </material>
    </visual>
    <collision>
      <origin xyz="0.026700000000000015 -0.06475000000001183 0.8806469999999995" rpy="0 0 -1.5707963267948966"/>
      <geometry>
        <mesh filename="package://iCub/meshes/simmechanics/sim_icub3_l_ankle_2_prt.stl" scale="0.001 0.001 0.001"/>
      </geometry>
    </collision>
  </link>
  <joint name="l_ankle_roll" type="revolute">
    <origin xyz="-0.052750000000000005 -0.018200000000000008 -0.03500000000000003" rpy="0 0 0"/>
    <axis xyz="1.0 0.0 0.0"/>
    <parent link="l_ankle_1"/>
    <child link="l_ankle_2"/>
    <limit effort="50000" lower="-0.4363323129985824" upper="0.4363323129985824" velocity="120.0"/>
    <dynamics damping="0.06" friction="0.0"/>
  </joint>
  <link name="l_foot_rear">
    <inertial>
      <origin xyz="0.00020089999999999865 -3.260000000000762e-05 0.003339000000000092" rpy="0 0 -1.5707963267948966"/>
      <mass value="0.728095"/>
      <inertia ixx="0.000769193" ixy="-1.67298e-06" ixz="-7.88069e-07" iyy="0.000565835" iyz="-5.1234e-07" izz="0.00132907"/>
    </inertial>
    <visual>
      <origin xyz="0.010700000000000012 -0.06475000000001183 0.9464469999999995" rpy="0 0 -1.5707963267948966"/>
      <geometry>
        <mesh filename="package://iCub/meshes/simmechanics/sim_icub3_l_foot_rear_prt.stl" scale="0.001 0.001 0.001"/>
      </geometry>
      <material name="white">
        <color rgba="1 1 1 1"/>
      </material>
    </visual>
    <collision>
      <origin xyz="0.010700000000000012 -0.06475000000001183 0.9464469999999995" rpy="0 0 -1.5707963267948966"/>
      <geometry>
        <mesh filename="package://iCub/meshes/simmechanics/sim_icub3_l_foot_rear_prt.stl" scale="0.001 0.001 0.001"/>
      </geometry>
    </collision>
  </link>
  <joint name="l_foot_rear_ft_sensor" type="fixed">
    <origin xyz="0.016 0 -0.06579999999999997" rpy="0 0 0"/>
    <parent link="l_ankle_2"/>
    <child link="l_foot_rear"/>
    <dynamics damping="0.1"/>
  </joint>
  <link name="l_sole"/>
  <joint name="l_sole_fixed_joint" type="fixed">
    <origin xyz="0.05963 0 0" rpy="0 0 0"/>
    <parent link="l_foot_rear"/>
    <child link="l_sole"/>
    <dynamics damping="0.1"/>
  </joint>
  <link name="l_foot_front">
    <inertial>
      <origin xyz="-0.00024399999999999422 9.139999999999149e-05 0.003298999999999941" rpy="0 0 -1.5707963267948966"/>
      <mass value="0.723938"/>
      <inertia ixx="0.000770637" ixy="7.67083e-07" ixz="-4.91844e-07" iyy="0.000568064" iyz="-5.214e-07" izz="0.001333"/>
    </inertial>
    <visual>
      <origin xyz="-0.10854999999999998 -0.06475000000001183 0.9464469999999995" rpy="0 0 -1.5707963267948966"/>
      <geometry>
        <mesh filename="package://iCub/meshes/simmechanics/sim_icub3_l_foot_front_prt.stl" scale="0.001 0.001 0.001"/>
      </geometry>
      <material name="dblue">
        <color rgba="0 0 0.8 1"/>
      </material>
    </visual>
    <collision>
      <origin xyz="-0.10854999999999998 -0.06475000000001183 0.9464469999999995" rpy="0 0 -1.5707963267948966"/>
      <geometry>
        <mesh filename="package://iCub/meshes/simmechanics/sim_icub3_l_foot_front_prt.stl" scale="0.001 0.001 0.001"/>
      </geometry>
    </collision>
  </link>
  <joint name="l_foot_front_ft_sensor" type="fixed">
    <origin xyz="0.13524999999999998 0 -0.06579999999999997" rpy="0 0 0"/>
    <parent link="l_ankle_2"/>
    <child link="l_foot_front"/>
    <dynamics damping="0.1"/>
  </joint>
  <link name="base_link"/>
  <joint name="base_link_fixed_joint" type="fixed">
  <origin xyz="0 0 0" rpy="0 -0 0"/>
  <axis xyz="0 0 0"/>
  <parent link="root_link"/>
  <child link="base_link"/>
</joint>
  <gazebo reference="r_arm_ft_sensor">
<preserveFixedJoint>true</preserveFixedJoint>
<!-- For compatibility with SDFormat < 4.4 -->
<disableFixedJointLumping>true</disableFixedJointLumping>
</gazebo>
  <gazebo reference="l_arm_ft_sensor">
<preserveFixedJoint>true</preserveFixedJoint>
<!-- For compatibility with SDFormat < 4.4 -->
<disableFixedJointLumping>true</disableFixedJointLumping>
</gazebo>
  <gazebo>
<plugin name="controlboard_torso" filename="libgazebo_yarp_controlboard.so">
  <yarpConfigurationFile>model://iCub/conf/gazebo_icub_torso.ini</yarpConfigurationFile>
</plugin>
</gazebo>
  <gazebo reference="torso_pitch">
    <implicitSpringDamper>1</implicitSpringDamper>
</gazebo>
  <gazebo reference="torso_roll">
    <implicitSpringDamper>1</implicitSpringDamper>
</gazebo>
  <gazebo reference="torso_yaw">
    <implicitSpringDamper>1</implicitSpringDamper>
</gazebo>
  <gazebo reference="r_shoulder_pitch">
    <implicitSpringDamper>1</implicitSpringDamper>
</gazebo>
  <gazebo reference="r_shoulder_roll">
    <implicitSpringDamper>1</implicitSpringDamper>
</gazebo>
  <gazebo reference="r_shoulder_yaw">
    <implicitSpringDamper>1</implicitSpringDamper>
</gazebo>
  <gazebo reference="l_shoulder_pitch">
    <implicitSpringDamper>1</implicitSpringDamper>
</gazebo>
  <gazebo reference="l_shoulder_roll">
    <implicitSpringDamper>1</implicitSpringDamper>
</gazebo>
  <gazebo reference="l_shoulder_yaw">
    <implicitSpringDamper>1</implicitSpringDamper>
</gazebo>
  <gazebo reference="l_leg_ft_sensor">
<preserveFixedJoint>true</preserveFixedJoint>
<!-- For compatibility with SDFormat < 4.4 -->
<disableFixedJointLumping>true</disableFixedJointLumping>
</gazebo>
  <gazebo reference="l_foot_front_ft_sensor">
<preserveFixedJoint>true</preserveFixedJoint>
<!-- For compatibility with SDFormat < 4.4 -->
<disableFixedJointLumping>true</disableFixedJointLumping>
</gazebo>
  <gazebo reference="l_foot_rear_ft_sensor">
<preserveFixedJoint>true</preserveFixedJoint>
<!-- For compatibility with SDFormat < 4.4 -->
<disableFixedJointLumping>true</disableFixedJointLumping>
</gazebo>
  <gazebo reference="l_foot_front">
  <collision> <surface> <bounce>
    <restitution_coefficient>0</restitution_coefficient>
    <threshold>100000</threshold>
  </bounce> </surface> </collision>
  <maxContacts>4</maxContacts>
  <kp>18000000</kp>
  <kd>100</kd>
  <maxVel>100</maxVel>
  <minDepth>0.0001</minDepth>
  <mu1>1</mu1>
  <mu2>1</mu2>
  <fdir1>0 0 0</fdir1>
</gazebo>
  <gazebo reference="l_foot_rear">
  <collision> <surface> <bounce>
    <restitution_coefficient>0</restitution_coefficient>
    <threshold>100000</threshold>
  </bounce> </surface> </collision>
  <maxContacts>4</maxContacts>
  <kp>18000000</kp>
  <kd>100</kd>
  <maxVel>100</maxVel>
  <minDepth>0.0001</minDepth>
  <mu1>1</mu1>
  <mu2>1</mu2>
  <fdir1>0 0 0</fdir1>
</gazebo>
  <gazebo>
<plugin name="controlboard_left_leg" filename="libgazebo_yarp_controlboard.so">
<yarpConfigurationFile>model://iCub/conf/gazebo_icub_left_leg.ini</yarpConfigurationFile>
</plugin>
</gazebo>
  <gazebo reference="l_hip_pitch">
    <implicitSpringDamper>1</implicitSpringDamper>
</gazebo>
  <gazebo reference="l_hip_roll">
    <implicitSpringDamper>1</implicitSpringDamper>
</gazebo>
  <gazebo reference="l_hip_yaw">
    <implicitSpringDamper>1</implicitSpringDamper>
</gazebo>
  <gazebo reference="l_knee">
    <implicitSpringDamper>1</implicitSpringDamper>
</gazebo>
  <gazebo reference="l_ankle_pitch">
    <implicitSpringDamper>1</implicitSpringDamper>
</gazebo>
  <gazebo reference="l_ankle_roll">
    <implicitSpringDamper>1</implicitSpringDamper>
</gazebo>
  <gazebo reference="r_leg_ft_sensor">
<preserveFixedJoint>true</preserveFixedJoint>
<!-- For compatibility with SDFormat < 4.4 -->
<disableFixedJointLumping>true</disableFixedJointLumping>
</gazebo>
  <gazebo reference="r_foot_front_ft_sensor">
<preserveFixedJoint>true</preserveFixedJoint>
<!-- For compatibility with SDFormat < 4.4 -->
<disableFixedJointLumping>true</disableFixedJointLumping>
</gazebo>
  <gazebo reference="r_foot_rear_ft_sensor">
<preserveFixedJoint>true</preserveFixedJoint>
<!-- For compatibility with SDFormat < 4.4 -->
<disableFixedJointLumping>true</disableFixedJointLumping>
</gazebo>
  <gazebo reference="r_foot_front">
  <collision> <surface> <bounce>
    <restitution_coefficient>0</restitution_coefficient>
    <threshold>100000</threshold>
  </bounce> </surface> </collision>
  <maxContacts>4</maxContacts>
  <kp>18000000</kp>
  <kd>100</kd>
  <maxVel>100</maxVel>
  <minDepth>0.0001</minDepth>
  <mu1>1</mu1>
  <mu2>1</mu2>
  <fdir1>0 0 0</fdir1>
</gazebo>
  <gazebo reference="r_foot_rear">
  <collision> <surface> <bounce>
    <restitution_coefficient>0</restitution_coefficient>
    <threshold>100000</threshold>
  </bounce> </surface> </collision>
  <maxContacts>4</maxContacts>
  <kp>18000000</kp>
  <kd>100</kd>
  <maxVel>100</maxVel>
  <minDepth>0.0001</minDepth>
  <mu1>1</mu1>
  <mu2>1</mu2>
  <fdir1>0 0 0</fdir1>
</gazebo>
  <gazebo>
<plugin name="controlboard_right_leg" filename="libgazebo_yarp_controlboard.so">
<yarpConfigurationFile>model://iCub/conf/gazebo_icub_right_leg.ini</yarpConfigurationFile>
</plugin>
</gazebo>
  <gazebo reference="r_hip_pitch">
    <implicitSpringDamper>1</implicitSpringDamper>
</gazebo>
  <gazebo reference="r_hip_roll">
    <implicitSpringDamper>1</implicitSpringDamper>
</gazebo>
  <gazebo reference="r_hip_yaw">
    <implicitSpringDamper>1</implicitSpringDamper>
</gazebo>
  <gazebo reference="r_knee">
    <implicitSpringDamper>1</implicitSpringDamper>
</gazebo>
  <gazebo reference="r_ankle_pitch">
    <implicitSpringDamper>1</implicitSpringDamper>
</gazebo>
  <gazebo reference="r_ankle_roll">
    <implicitSpringDamper>1</implicitSpringDamper>
</gazebo>
  <gazebo>
<plugin name="controlboard_head_without_eyes" filename="libgazebo_yarp_controlboard.so">
<yarpConfigurationFile>model://iCub/conf/gazebo_icub_head_without_eyes.ini</yarpConfigurationFile>
</plugin>
</gazebo>
  <gazebo reference="neck_pitch">
    <implicitSpringDamper>1</implicitSpringDamper>
</gazebo>
  <gazebo reference="neck_roll">
    <implicitSpringDamper>1</implicitSpringDamper>
</gazebo>
  <gazebo reference="neck_yaw">
    <implicitSpringDamper>1</implicitSpringDamper>
</gazebo>
  <gazebo reference="l_arm_ft_sensor">
    <sensor name="l_arm_ft_sensor" type="force_torque">
      <always_on>1</always_on>
      <update_rate>100</update_rate>
      <force_torque>
        <frame>child</frame>
        <measure_direction>child_to_parent</measure_direction>
      </force_torque>
      <plugin name="left_arm_ft_plugin" filename="libgazebo_yarp_forcetorque.so">
  <yarpConfigurationFile>model://iCub/conf/FT/gazebo_icub_left_arm_ft.ini</yarpConfigurationFile>
</plugin>
    </sensor>
  </gazebo>
  <sensor name="l_arm_ft_sensor" type="force_torque">
    <parent joint="l_arm_ft_sensor"/>
    <force_torque>
      <frame>child</frame>
      <measure_direction>child_to_parent</measure_direction>
    </force_torque>
  </sensor>
  <gazebo reference="r_arm_ft_sensor">
    <sensor name="r_arm_ft_sensor" type="force_torque">
      <always_on>1</always_on>
      <update_rate>100</update_rate>
      <force_torque>
        <frame>child</frame>
        <measure_direction>child_to_parent</measure_direction>
      </force_torque>
      <plugin name="right_arm_ft_plugin" filename="libgazebo_yarp_forcetorque.so">
  <yarpConfigurationFile>model://iCub/conf/FT/gazebo_icub_right_arm_ft.ini</yarpConfigurationFile>
</plugin>
    </sensor>
  </gazebo>
  <sensor name="r_arm_ft_sensor" type="force_torque">
    <parent joint="r_arm_ft_sensor"/>
    <force_torque>
      <frame>child</frame>
      <measure_direction>child_to_parent</measure_direction>
    </force_torque>
  </sensor>
  <gazebo reference="l_leg_ft_sensor">
    <sensor name="l_leg_ft_sensor" type="force_torque">
      <always_on>1</always_on>
      <update_rate>100</update_rate>
      <force_torque>
        <frame>child</frame>
        <measure_direction>child_to_parent</measure_direction>
      </force_torque>
      <plugin name="left_leg_ft_plugin" filename="libgazebo_yarp_forcetorque.so">
  <yarpConfigurationFile>model://iCub/conf/FT/gazebo_icub_left_leg_ft.ini</yarpConfigurationFile>
</plugin>
    </sensor>
  </gazebo>
  <sensor name="l_leg_ft_sensor" type="force_torque">
    <parent joint="l_leg_ft_sensor"/>
    <force_torque>
      <frame>child</frame>
      <measure_direction>child_to_parent</measure_direction>
    </force_torque>
  </sensor>
  <gazebo reference="l_foot_front_ft_sensor">
    <sensor name="l_foot_front_ft_sensor" type="force_torque">
      <always_on>1</always_on>
      <update_rate>100</update_rate>
      <force_torque>
        <frame>child</frame>
        <measure_direction>child_to_parent</measure_direction>
      </force_torque>
      <plugin name="left_foot_front_ft_plugin" filename="libgazebo_yarp_forcetorque.so">
  <yarpConfigurationFile>model://iCub/conf/FT/gazebo_icub_left_foot_front_ft.ini</yarpConfigurationFile>
</plugin>
    </sensor>
  </gazebo>
  <sensor name="l_foot_front_ft_sensor" type="force_torque">
    <parent joint="l_foot_front_ft_sensor"/>
    <force_torque>
      <frame>child</frame>
      <measure_direction>child_to_parent</measure_direction>
    </force_torque>
  </sensor>
  <gazebo reference="l_foot_rear_ft_sensor">
    <sensor name="l_foot_rear_ft_sensor" type="force_torque">
      <always_on>1</always_on>
      <update_rate>100</update_rate>
      <force_torque>
        <frame>child</frame>
        <measure_direction>child_to_parent</measure_direction>
      </force_torque>
      <plugin name="left_foot_rear_ft_plugin" filename="libgazebo_yarp_forcetorque.so">
  <yarpConfigurationFile>model://iCub/conf/FT/gazebo_icub_left_foot_rear_ft.ini</yarpConfigurationFile>
</plugin>
    </sensor>
  </gazebo>
  <sensor name="l_foot_rear_ft_sensor" type="force_torque">
    <parent joint="l_foot_rear_ft_sensor"/>
    <force_torque>
      <frame>child</frame>
      <measure_direction>child_to_parent</measure_direction>
    </force_torque>
  </sensor>
  <gazebo reference="r_leg_ft_sensor">
    <sensor name="r_leg_ft_sensor" type="force_torque">
      <always_on>1</always_on>
      <update_rate>100</update_rate>
      <force_torque>
        <frame>child</frame>
        <measure_direction>child_to_parent</measure_direction>
      </force_torque>
      <plugin name="right_leg_ft_plugin" filename="libgazebo_yarp_forcetorque.so">
  <yarpConfigurationFile>model://iCub/conf/FT/gazebo_icub_right_leg_ft.ini</yarpConfigurationFile>
</plugin>
    </sensor>
  </gazebo>
  <sensor name="r_leg_ft_sensor" type="force_torque">
    <parent joint="r_leg_ft_sensor"/>
    <force_torque>
      <frame>child</frame>
      <measure_direction>child_to_parent</measure_direction>
    </force_torque>
  </sensor>
  <gazebo reference="r_foot_front_ft_sensor">
    <sensor name="r_foot_front_ft_sensor" type="force_torque">
      <always_on>1</always_on>
      <update_rate>100</update_rate>
      <force_torque>
        <frame>child</frame>
        <measure_direction>child_to_parent</measure_direction>
      </force_torque>
      <plugin name="right_foot_front_ft_plugin" filename="libgazebo_yarp_forcetorque.so">
  <yarpConfigurationFile>model://iCub/conf/FT/gazebo_icub_right_foot_front_ft.ini</yarpConfigurationFile>
</plugin>
    </sensor>
  </gazebo>
  <sensor name="r_foot_front_ft_sensor" type="force_torque">
    <parent joint="r_foot_front_ft_sensor"/>
    <force_torque>
      <frame>child</frame>
      <measure_direction>child_to_parent</measure_direction>
    </force_torque>
  </sensor>
  <gazebo reference="r_foot_rear_ft_sensor">
    <sensor name="r_foot_rear_ft_sensor" type="force_torque">
      <always_on>1</always_on>
      <update_rate>100</update_rate>
      <force_torque>
        <frame>child</frame>
        <measure_direction>child_to_parent</measure_direction>
      </force_torque>
      <plugin name="right_foot_rear_ft_plugin" filename="libgazebo_yarp_forcetorque.so">
  <yarpConfigurationFile>model://iCub/conf/FT/gazebo_icub_right_foot_rear_ft.ini</yarpConfigurationFile>
</plugin>
    </sensor>
  </gazebo>
  <sensor name="r_foot_rear_ft_sensor" type="force_torque">
    <parent joint="r_foot_rear_ft_sensor"/>
    <force_torque>
      <frame>child</frame>
      <measure_direction>child_to_parent</measure_direction>
    </force_torque>
  </sensor>
  <gazebo>
    <pose>0.0 0.0 0.8 0.0 0.0 0.0</pose>
  </gazebo>
</robot>
